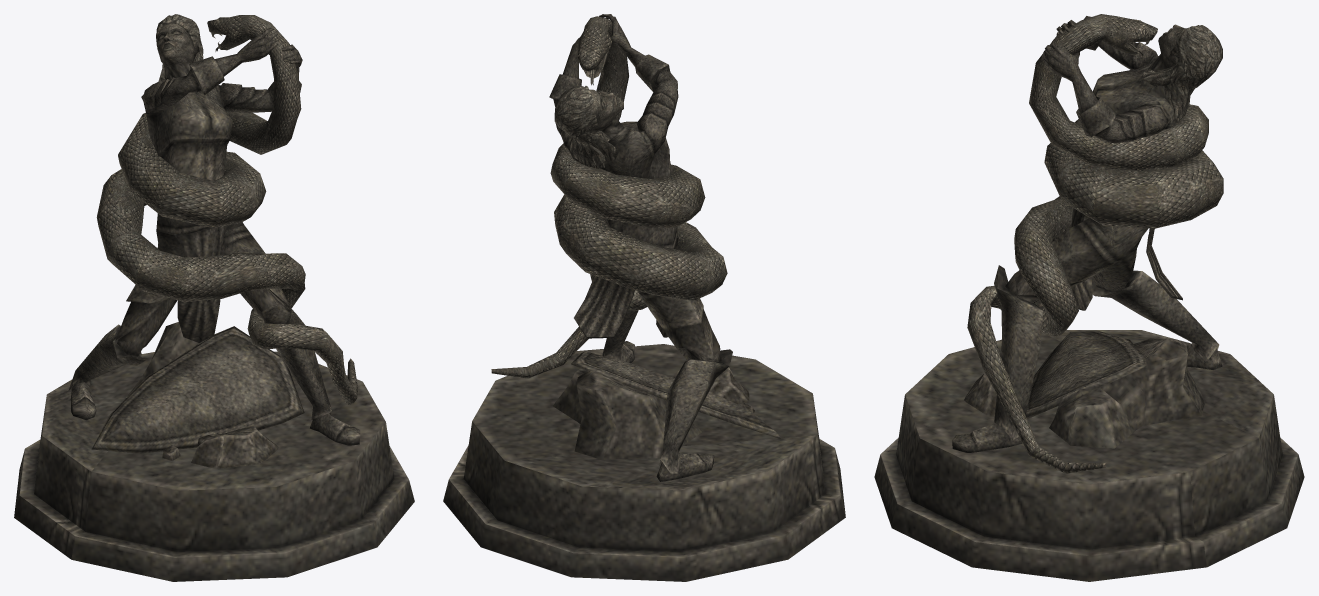
Rendered from femaleAnacondaStatue.dae.
3 renders of one model, left to right at view 1: azimuth 30°, elevation 25°; view 2: azimuth 150°, elevation 25°; view 3: azimuth 270°, elevation 25°, orthographic. The views are drawn at different scales.
Parts seen in each view (by area): view 1: femaleanacondaStatue; view 2: femaleanacondaStatue; view 3: femaleanacondaStatue.
Part boxes in pixels (x1,y1,x2,y2): femaleanacondaStatue: [14, 14, 414, 581]; femaleanacondaStatue: [443, 14, 845, 581]; femaleanacondaStatue: [874, 14, 1304, 581].
Bounding box in the file's own units: 2.36 × 3.04 × 2.38.
Materials: 1 (1 with a texture image).
